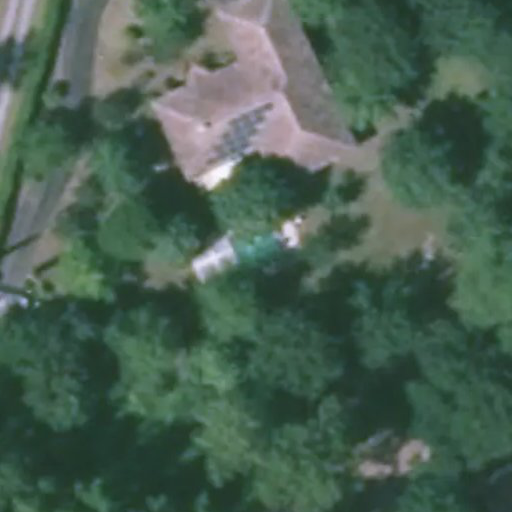pool: (227, 240, 284, 243)
